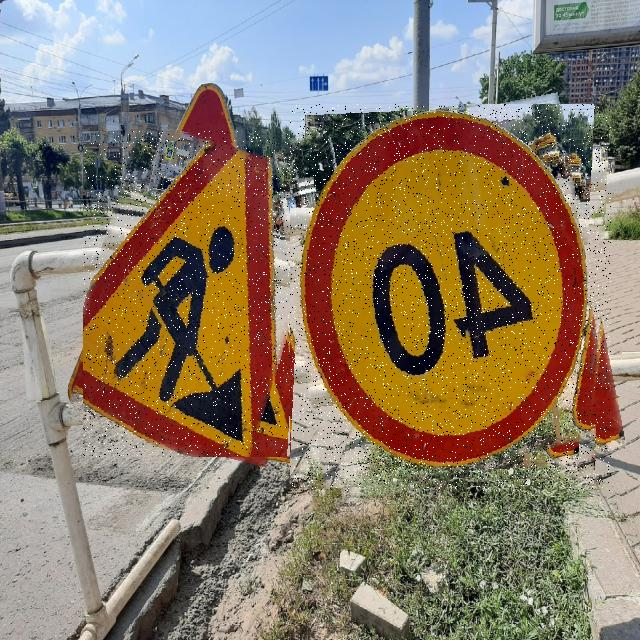roadwork: (83, 131, 322, 457)
speed limit 40: (290, 104, 611, 491)
